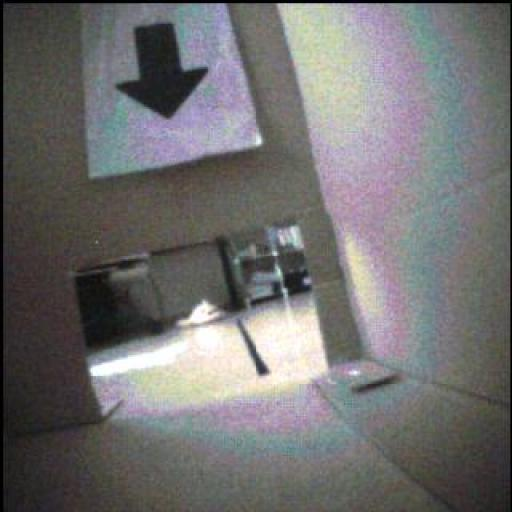arrow: (118, 25, 209, 119)
